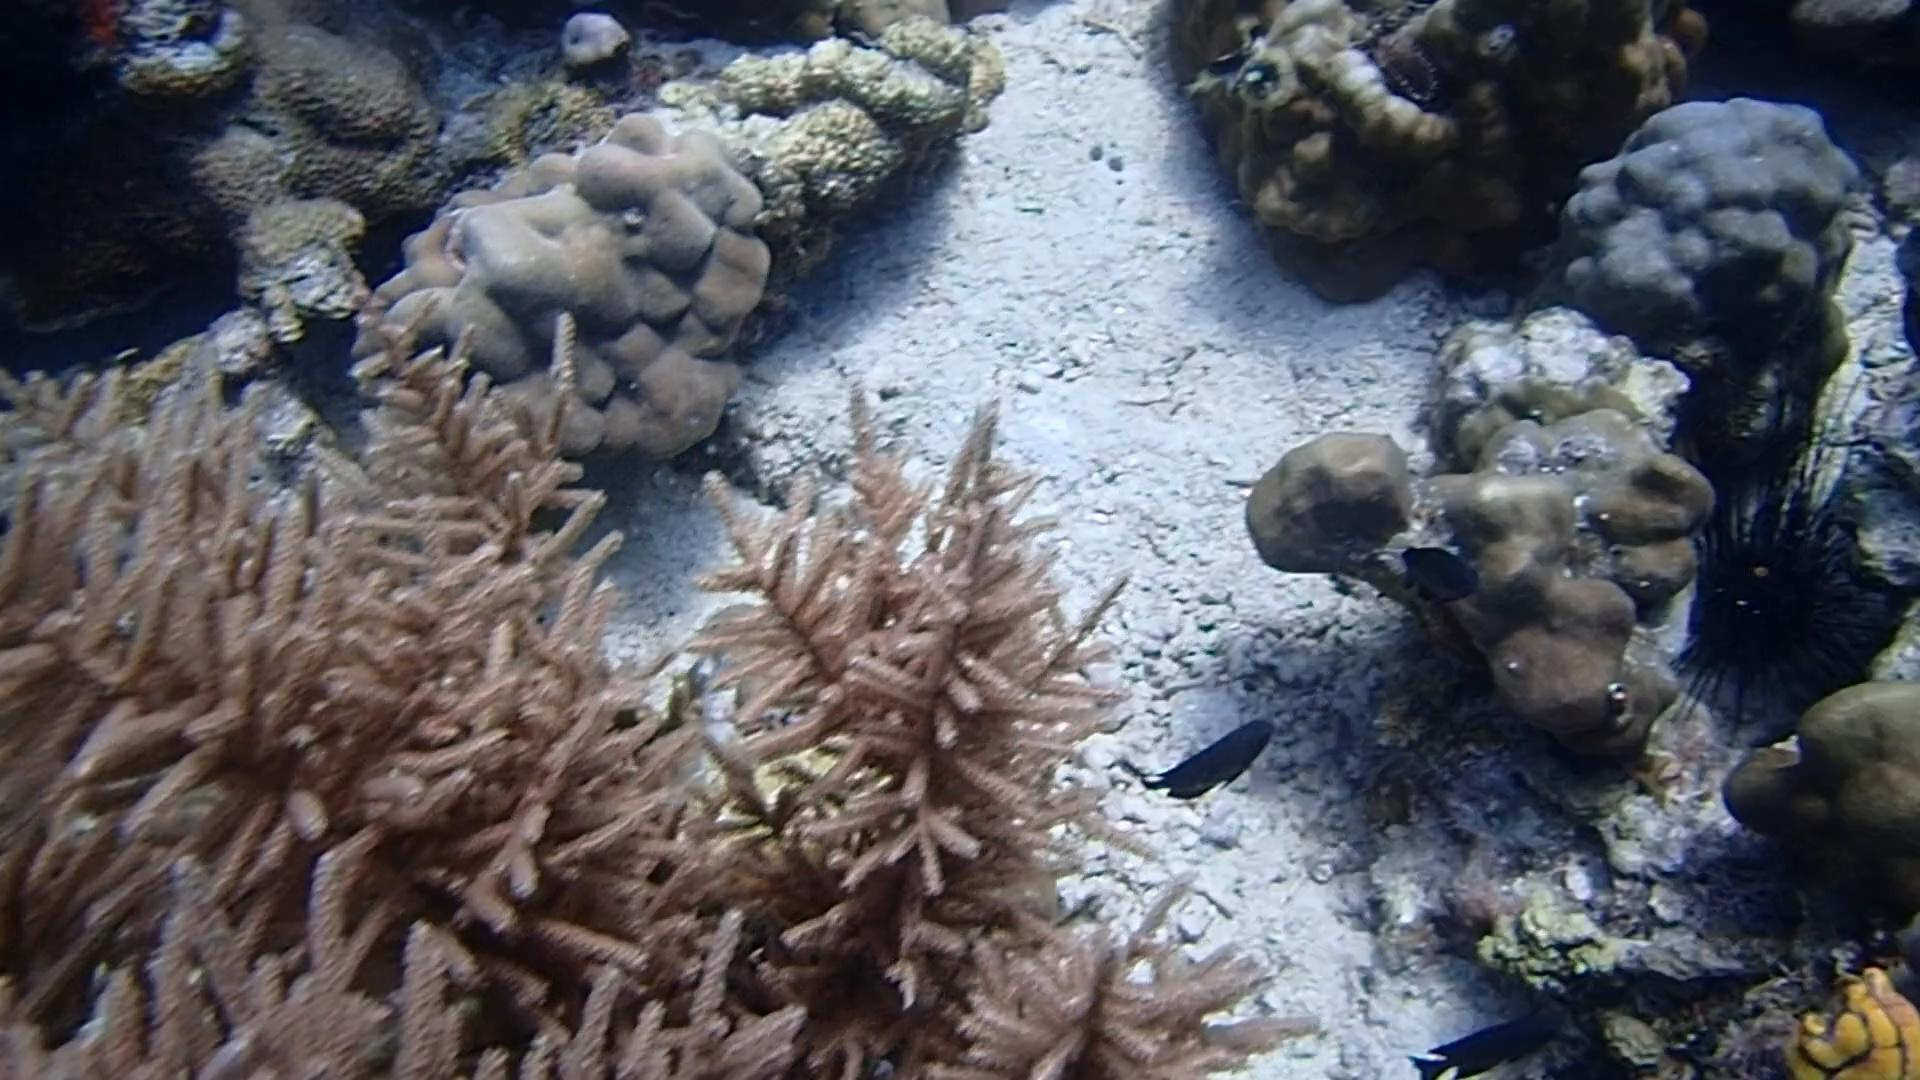Dark Fish: (1146, 709, 1280, 806), (1404, 1011, 1553, 1080), (1395, 539, 1485, 612)
Yellow Tail: (1178, 45, 1258, 99)
